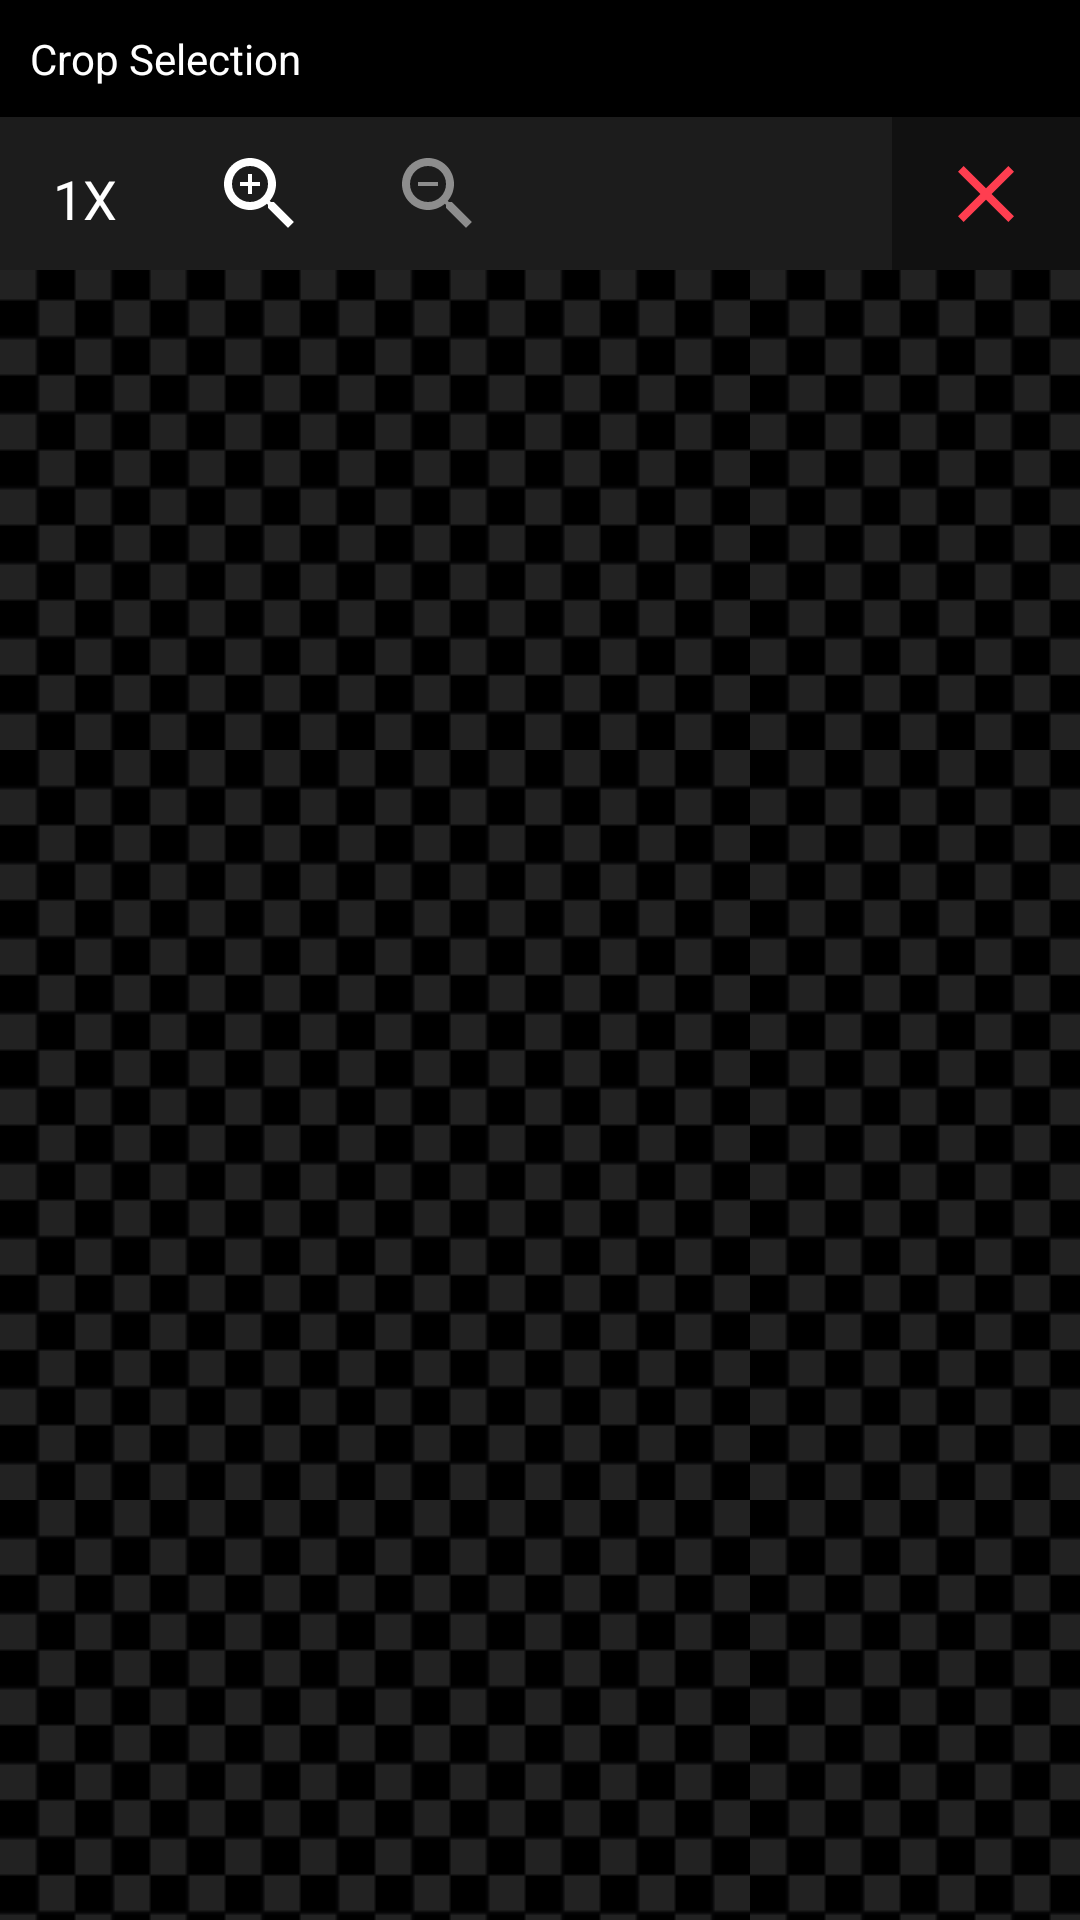

Screen size 1080 x 1920. Icon name, then its center in pixels as [x,y]:
close crop: [986,193]
zoom in: [259,193]
zoom out: [437,193]
